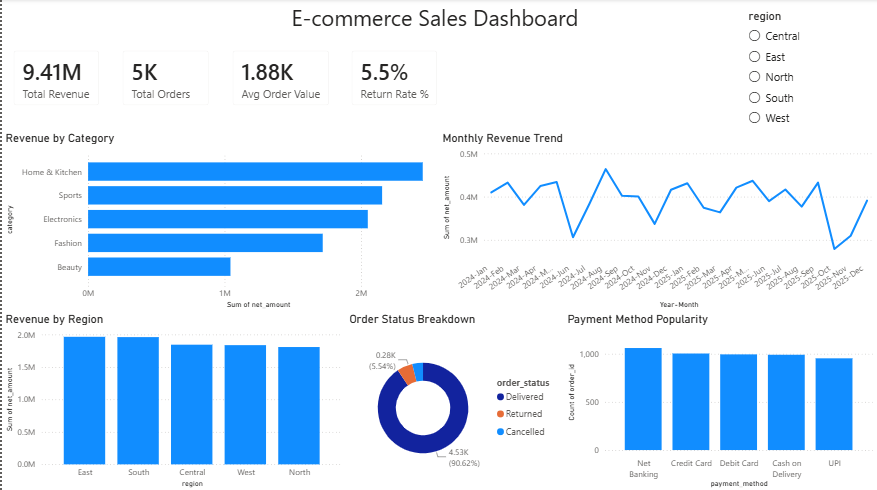

This screenshot's page, from the dashboard's own definition file:
{"tool":"powerbi","page":{"name":"Page 1","canvas":[1280,720],"ordinal":0},"visuals":[{"type":"cardVisual","fields":{"Data":["orders_clean.Total Revenue"]},"box":[0,59,159.1,114.4],"z":0},{"type":"cardVisual","fields":{"Data":["orders_clean.Total Orders"]},"box":[159.1,59,160.9,114.4],"z":1000},{"type":"cardVisual","fields":{"Data":["orders_clean.Avg Order Value"]},"box":[320,59,175.2,114.4],"z":2000},{"type":"cardVisual","fields":{"Data":["orders_clean.Return Rate %"]},"box":[495.2,59,159.1,114.4],"z":3000},{"type":"clusteredBarChart","title":"Revenue by Category","fields":{"Category":["orders_clean.category"],"Y":["Sum(orders_clean.net_amount)"]},"box":[0,193.2,639.5,264.9],"z":4000},{"type":"lineChart","title":"Monthly Revenue Trend","fields":{"Category":["orders_clean.Year-Month"],"Y":["Sum(orders_clean.net_amount)"]},"box":[639.5,193.2,641,264.9],"z":4001},{"type":"clusteredColumnChart","title":"Revenue by Region","fields":{"Category":["orders_clean.region"],"Y":["Sum(orders_clean.net_amount)"]},"box":[0,458,503.4,262],"z":4002},{"type":"donutChart","title":"Order Status Breakdown","fields":{"Category":["orders_clean.order_status"],"Y":["CountNonNull(orders_clean.order_id)"]},"box":[503.4,458,320.5,262],"z":4003},{"type":"clusteredColumnChart","title":"Payment Method Popularity","fields":{"Category":["orders_clean.payment_method"],"Y":["CountNonNull(orders_clean.order_id)"]},"box":[823,458,457,262],"z":4004},{"type":"textbox","box":[418.3,0,443.4,59],"z":4005},{"type":"listSlicer","fields":{"Values":["orders_clean.region"]},"box":[1086.9,14.3,193.1,193.1],"z":4006}]}

Visuals, with their boxes in screenshot pixels (x1, y1, x2, y2), scaled from the page's 1280x720 canvas onto the 877x490 screenshot:
cardVisual - orders_clean.Total Revenue: [x1=0, y1=40, x2=109, y2=118]
cardVisual - orders_clean.Total Orders: [x1=109, y1=40, x2=219, y2=118]
cardVisual - orders_clean.Avg Order Value: [x1=219, y1=40, x2=339, y2=118]
cardVisual - orders_clean.Return Rate %: [x1=339, y1=40, x2=448, y2=118]
"Revenue by Category" clusteredBarChart: [x1=0, y1=131, x2=438, y2=312]
"Monthly Revenue Trend" lineChart: [x1=438, y1=131, x2=876, y2=312]
"Revenue by Region" clusteredColumnChart: [x1=0, y1=312, x2=345, y2=489]
"Order Status Breakdown" donutChart: [x1=345, y1=312, x2=565, y2=489]
"Payment Method Popularity" clusteredColumnChart: [x1=564, y1=312, x2=876, y2=489]
textbox: [x1=287, y1=0, x2=590, y2=40]
listSlicer - orders_clean.region: [x1=745, y1=10, x2=876, y2=141]
